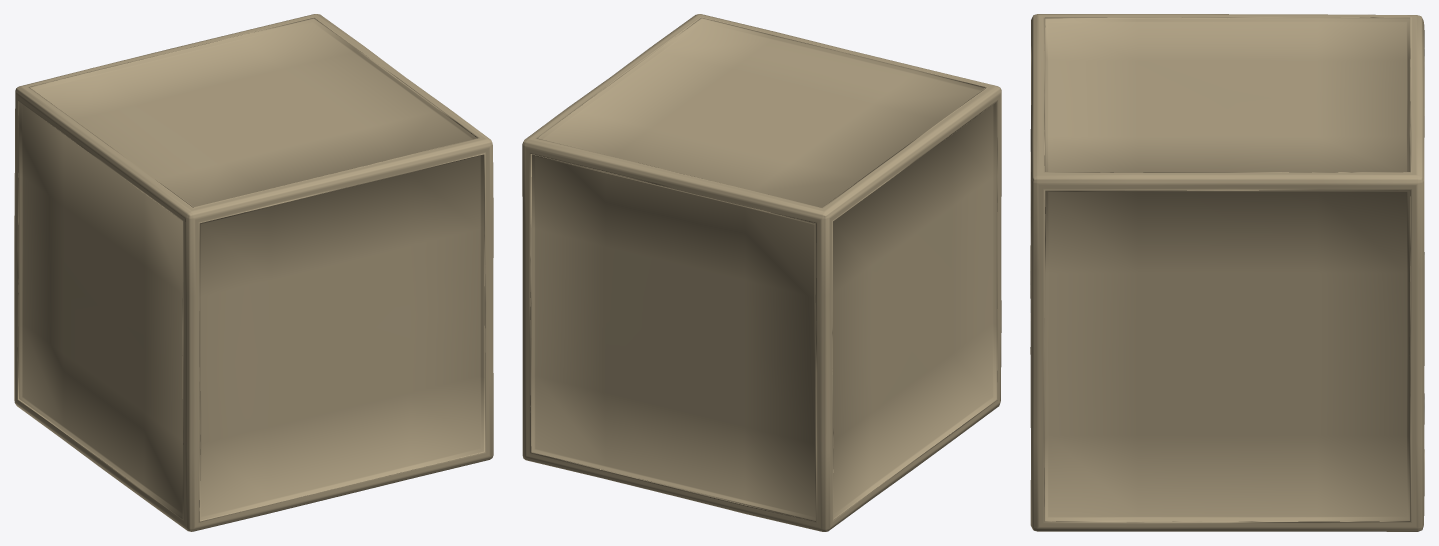
Rendered from floor_2.fbx.
3 views of the same model, side by side, from view 1: azimuth 30°, elevation 25°; view 2: azimuth 150°, elevation 25°; view 3: azimuth 270°, elevation 25° (orthographic). The views are drawn at different scales.
Parts seen in each view (by area): view 1: floor_2; view 2: floor_2; view 3: floor_2.
Boxes of the visible parts, <box> form: floor_2: <box>14,14,493,531</box>; floor_2: <box>522,14,1001,531</box>; floor_2: <box>1030,14,1424,531</box>.
Bounding box in the file's own units: 100 × 100 × 100.
